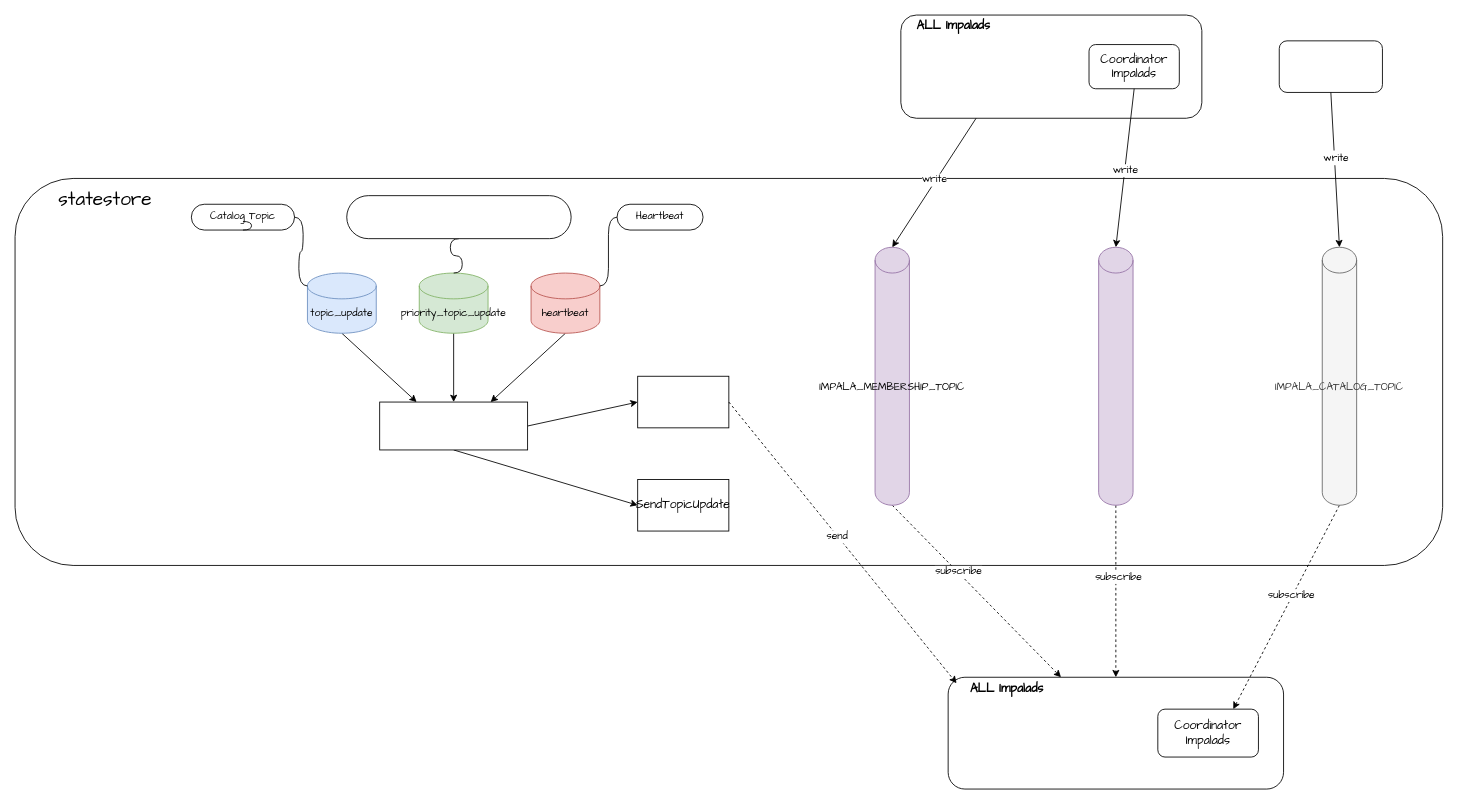
The diagram is 1458 pixels wide and 804 high, and some of its shapes have lost their labels. Each missing label, with the centre of its shape:
"CatalogD" belongs at pixel 1330 66.
"DoSubscriberUpdate" belongs at pixel 453 425.
"IMPALA_REQUEST_QUEUE_TOPIC" belongs at pixel 1115 375.
"MEMBERSHIP_TOPIC REQUEST_QUEUE_TOPIC" belongs at pixel 458 217.
"SendHeartbeat" belongs at pixel 683 401.
